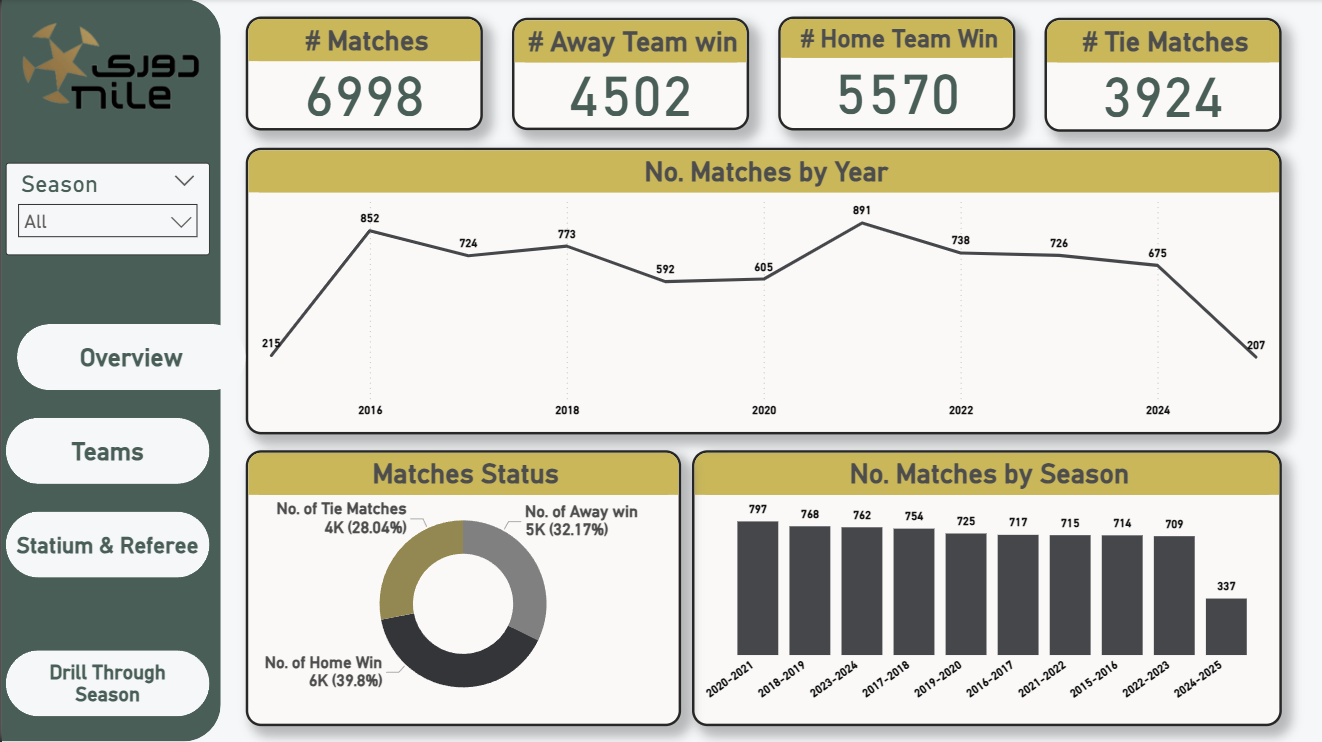

The dashboard page shown, as its layout file describes it:
{"tool":"powerbi","page":{"name":"Overview","canvas":[1280,720],"ordinal":0},"visuals":[{"type":"actionButton","box":[14.5,630.7,182.8,64.2],"z":0},{"type":"card","title":"# Matches","fields":{"Values":["_Measures.No. Matches"]},"box":[236,17.4,230,110.2],"z":1000},{"type":"card","title":"# Away Team win","fields":{"Values":["_Measures.No. of Away win"]},"box":[493.9,17.8,230,108.9],"z":2000},{"type":"card","title":"# Home Team Win","fields":{"Values":["_Measures.No. of Home Win"]},"box":[751.7,16.9,230,110.2],"z":3000},{"type":"card","title":"# Tie Matches","fields":{"Values":["_Measures.No. of Tie Matches"]},"box":[1009.6,18.2,230,110.2],"z":4000},{"type":"columnChart","title":"No. Matches by Season","fields":{"Category":["Dim_Season.Season"],"Y":["_Measures.No. Matches"]},"box":[668.2,437,571.4,267.5],"z":5000},{"type":"donutChart","title":"Matches Status","fields":{"Y":["_Measures.No. of Away win","_Measures.No. of Home Win","_Measures.No. of Tie Matches"]},"box":[236,437,421.3,267.5],"z":6000},{"type":"lineChart","fields":{"Category":["Dim_Date.Date Hierarchy.Year","Dim_Date.Date Hierarchy.Month","Dim_Date.Date Hierarchy.Day"],"Y":["_Measures.No. Matches"]},"box":[236,144,1003.5,277.2],"z":7000},{"type":"shape","box":[0,0,211.8,719],"z":8000},{"type":"image","box":[14.5,16.9,182.8,95.6],"z":9000},{"type":"slicer","fields":{"Values":["Dim_Season.Season"]},"box":[3.6,158.6,197.3,89.6],"z":10000},{"type":"shape","box":[14.5,314.7,221.5,64.2],"z":11000},{"type":"shape","box":[3.6,405.5,197.3,64.2],"z":12000},{"type":"shape","box":[3.6,496.3,197.3,64.2],"z":13000},{"type":"actionButton","box":[44.8,314.7,152.5,64.2],"z":14000},{"type":"actionButton","box":[26.6,406.7,152.5,64.2],"z":15000},{"type":"actionButton","box":[10.9,497.5,182.8,64.2],"z":16000},{"type":"shape","box":[3.6,630.7,197.3,64.2],"z":17500}]}

Visuals, with their boxes in screenshot pixels (x1, y1, x2, y2), scaled from the page's 1280x720 canvas onto the 1322x742 screenshot:
actionButton: locate(15, 650, 204, 716)
"# Matches" card: locate(244, 18, 481, 131)
"# Away Team win" card: locate(510, 18, 748, 131)
"# Home Team Win" card: locate(776, 17, 1014, 131)
"# Tie Matches" card: locate(1043, 19, 1280, 132)
"No. Matches by Season" columnChart: locate(690, 450, 1280, 726)
"Matches Status" donutChart: locate(244, 450, 679, 726)
lineChart - Dim_Date.Date Hierarchy.Year x Dim_Date.Date Hierarchy.Month: locate(244, 148, 1280, 434)
shape: locate(0, 0, 219, 741)
image: locate(15, 17, 204, 116)
slicer - Dim_Season.Season: locate(4, 163, 207, 256)
shape: locate(15, 324, 244, 390)
shape: locate(4, 418, 207, 484)
shape: locate(4, 511, 207, 578)
actionButton: locate(46, 324, 204, 390)
actionButton: locate(27, 419, 185, 485)
actionButton: locate(11, 513, 200, 579)
shape: locate(4, 650, 207, 716)
